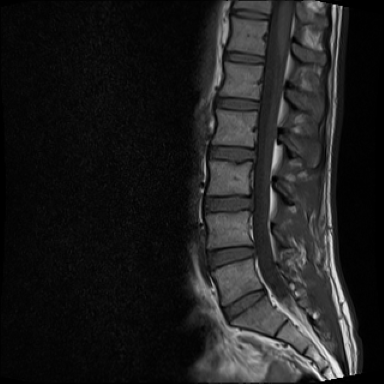Normal IVD: (216, 280, 271, 330), (201, 244, 260, 274), (204, 138, 259, 167), (200, 190, 255, 217), (212, 91, 262, 115), (223, 46, 267, 66), (227, 5, 271, 22)
